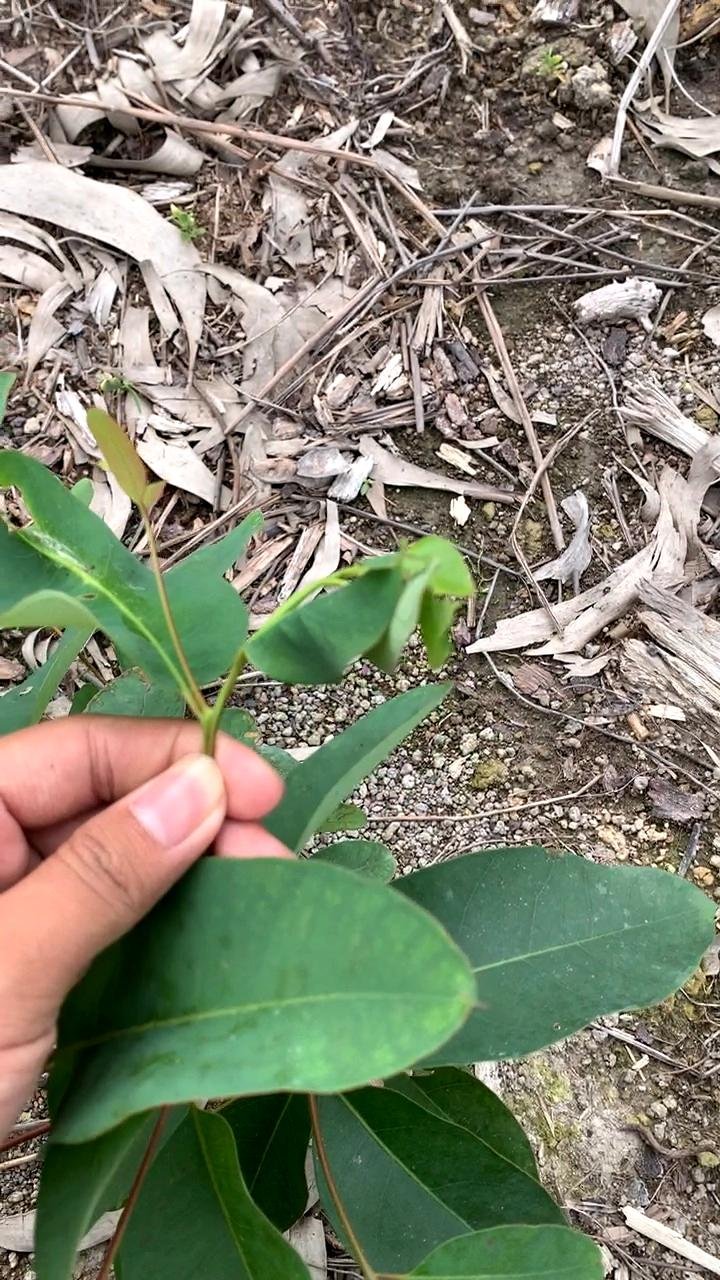Leaf Roller - Leaf: (243, 533, 485, 689)
